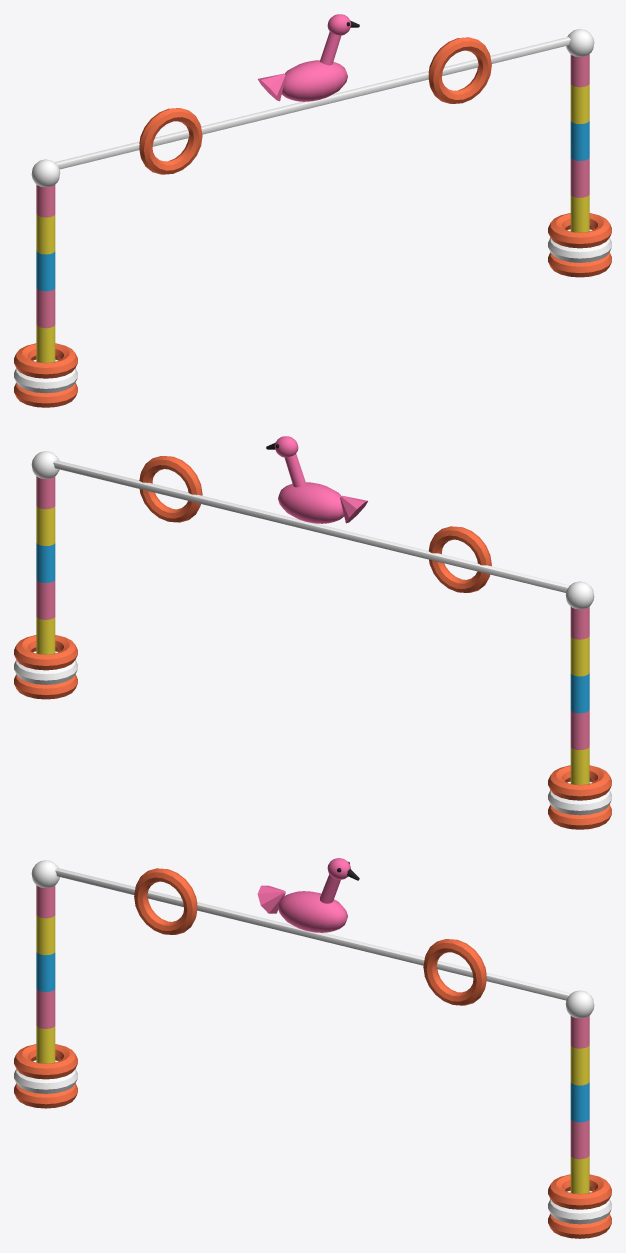
Rendered from journey_gate_heshy.glb.
The picture shows the model from 3 angles, top to bottom: view 1: azimuth 30°, elevation 25°; view 2: azimuth 150°, elevation 25°; view 3: azimuth 330°, elevation 25°; orthographic projection.
Visible parts, largest first — view 1: Gate_body.001; view 2: Gate_body.001; view 3: Gate_body.001.
Part boxes in pixels (x1,y1,x2,y2): Gate_body.001: (14,14,611,407); Gate_body.001: (14,436,611,829); Gate_body.001: (14,858,611,1238).
Size of the model in its own units: 21.22 by 10.69 by 1.99.
